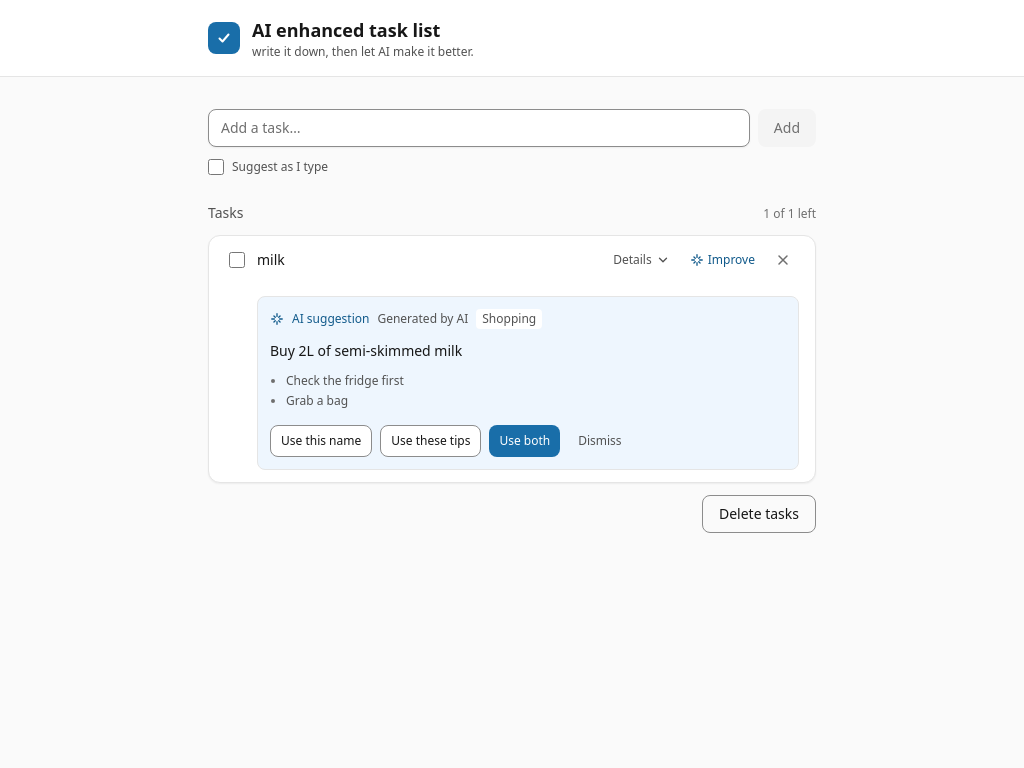
Scenario: App persistence › stops saving the suggestion once it is dismissed
Click the button "Dismiss" at (600, 441), box [568,425,632,457]
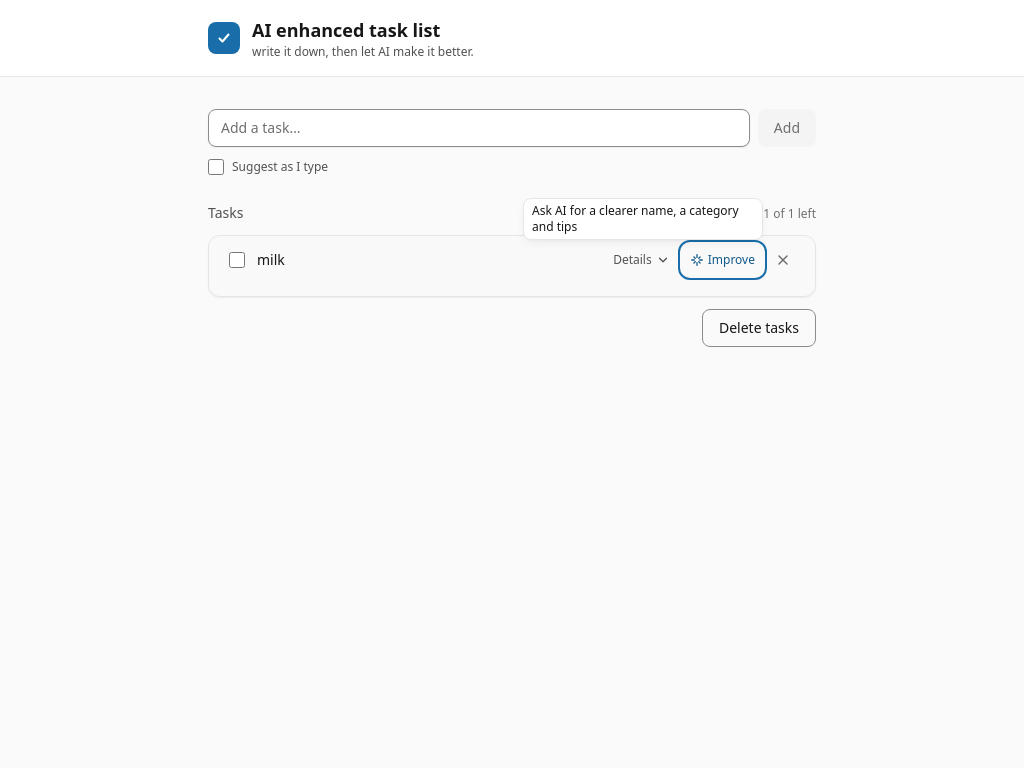
Expected: the text "AI suggestion" is gone
